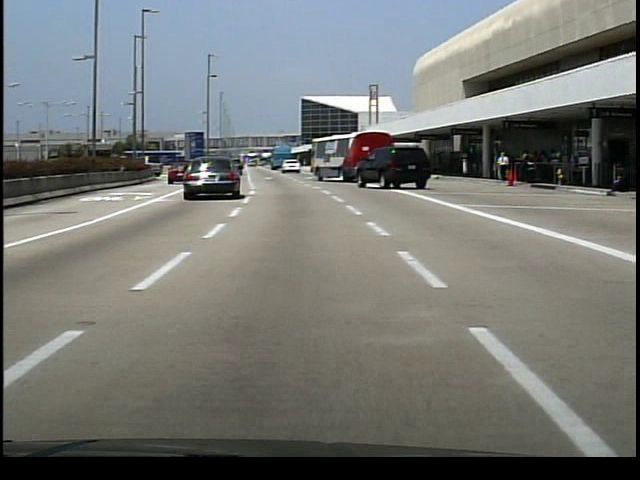person: (494, 150, 509, 185)
